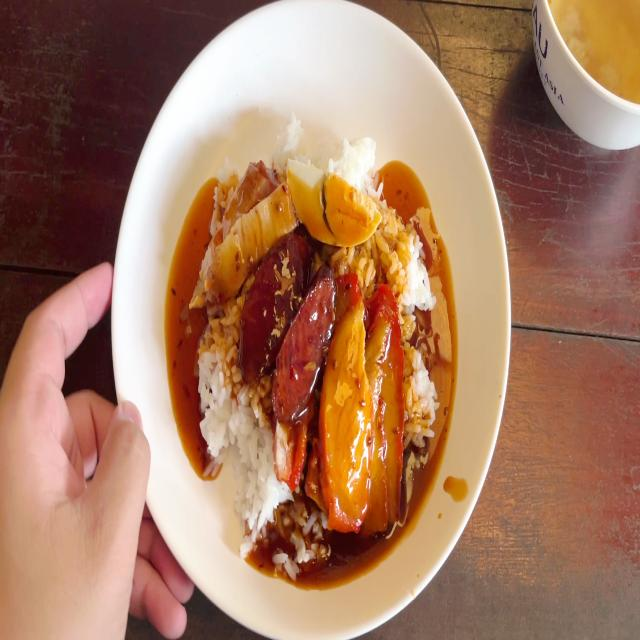boiled_egg: (285, 156, 379, 239)
chainese_sausage: (242, 234, 332, 408), (243, 241, 305, 367), (275, 280, 336, 408)
crispy_pork: (195, 161, 292, 297), (204, 204, 295, 304), (204, 165, 267, 258)
red_pork: (326, 278, 405, 530), (321, 286, 369, 523), (369, 286, 405, 525), (272, 426, 307, 490)
red_pork_and_crispy_pork: (200, 131, 438, 568)
rice: (196, 314, 236, 452), (379, 205, 429, 302), (248, 497, 320, 562), (407, 354, 436, 458), (242, 385, 267, 482)
